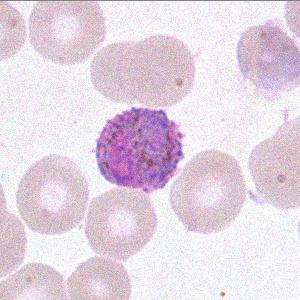Infected: (95, 107, 182, 190)
Uninfected: (171, 150, 245, 235), (15, 154, 90, 233), (119, 34, 196, 109), (85, 188, 159, 258), (29, 0, 106, 64), (237, 25, 300, 93), (92, 42, 143, 103)
